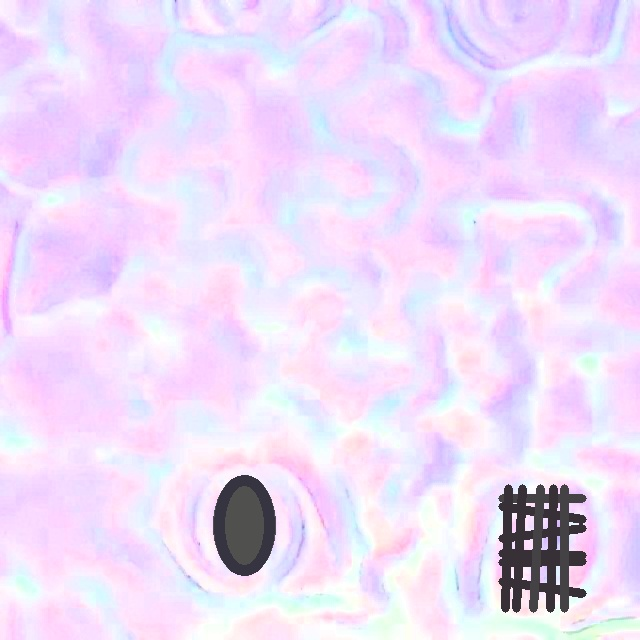open: (499, 484, 585, 612), (213, 475, 275, 575)
